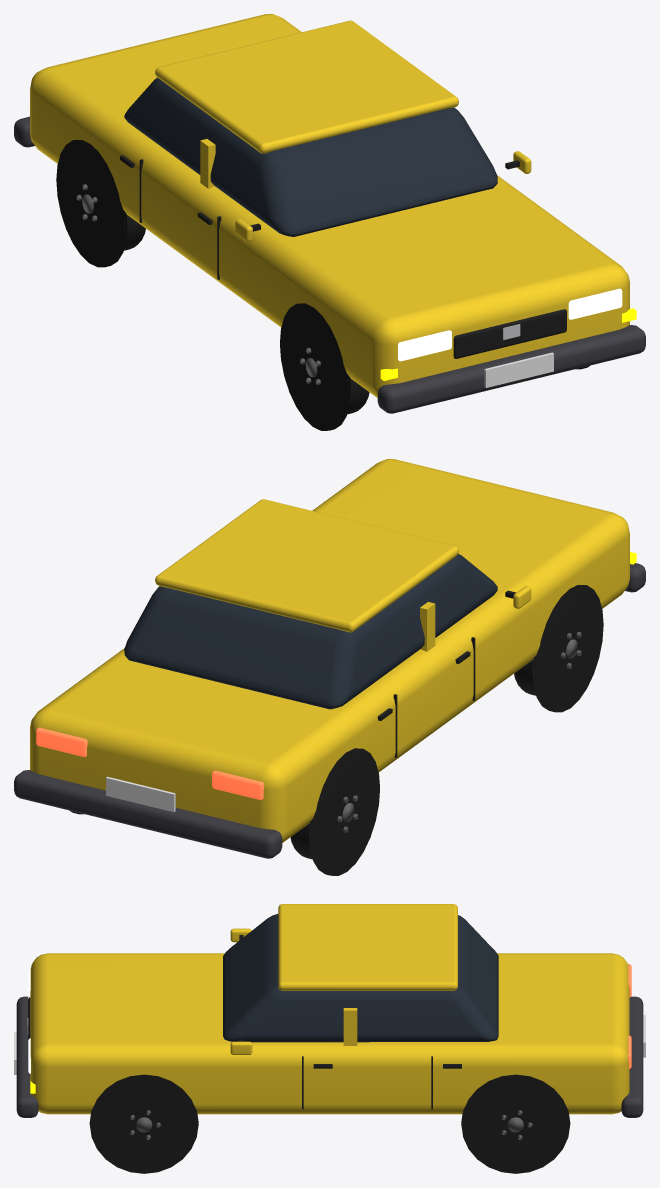
The model's file is car.glb.
The picture shows the model from 3 angles, top to bottom: view 1: azimuth 30°, elevation 25°; view 2: azimuth 150°, elevation 25°; view 3: azimuth 270°, elevation 25°; orthographic projection. The views are drawn at different scales.
Parts seen in each view (by area): view 1: V_car; view 2: V_car; view 3: V_car.
Boxes of the visible parts, x1,y1,x2,y2 form: V_car: (14, 14, 645, 430); V_car: (14, 459, 645, 875); V_car: (14, 904, 645, 1173).
Size of the model in its own units: 2.01 by 1.44 by 4.64.
